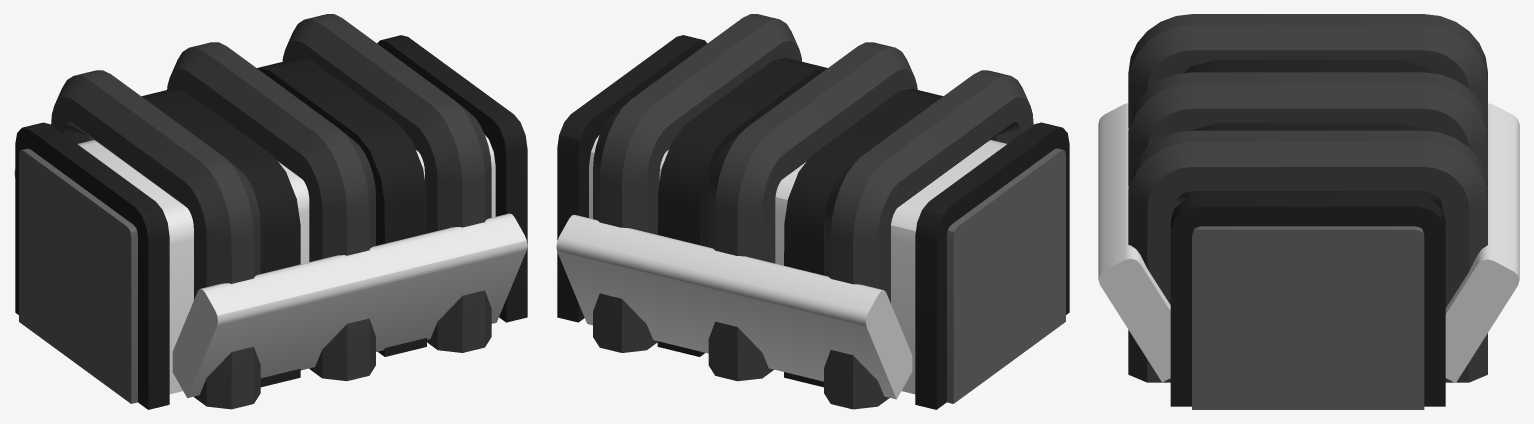
The model's file is SM_Engine_Fast.fbx.
3 views of the same model, side by side, from view 1: azimuth 30°, elevation 25°; view 2: azimuth 150°, elevation 25°; view 3: azimuth 270°, elevation 25° (orthographic). The views are drawn at different scales.
Visible parts, largest first — view 1: FastEngine; view 2: FastEngine; view 3: FastEngine.
Boxes of the visible parts, x1=… form: FastEngine: x1=14, y1=14, x2=527, y2=409; FastEngine: x1=556, y1=14, x2=1069, y2=409; FastEngine: x1=1098, y1=14, x2=1519, y2=409.
Bounding box in the file's own units: 81.58 × 44.74 × 73.27.
